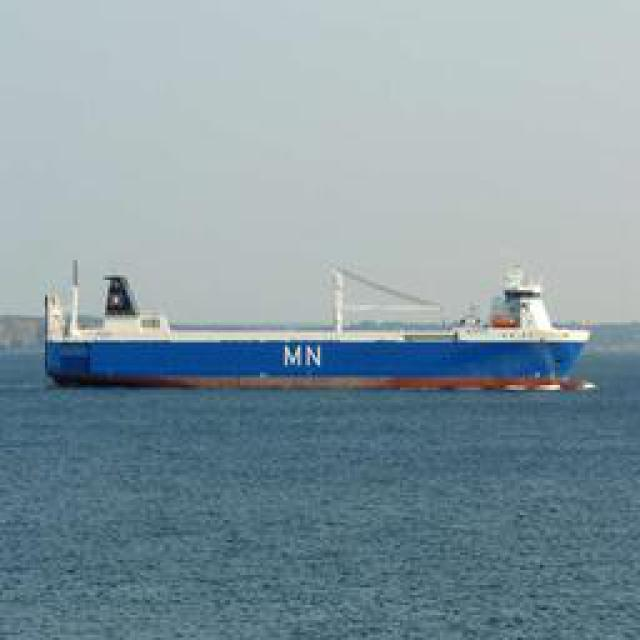Ship: (54, 262, 594, 390)
